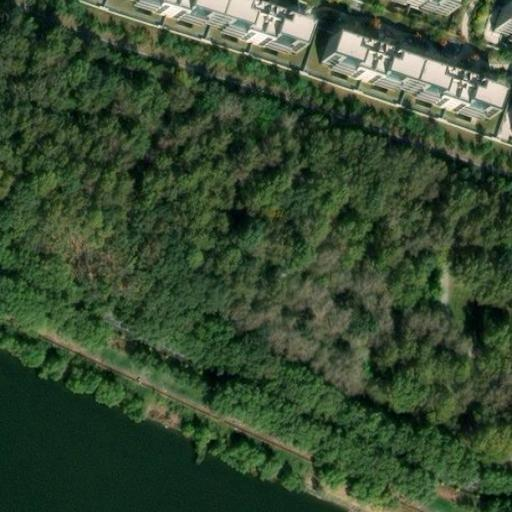building: (322, 40, 499, 121), (130, 0, 305, 53), (395, 0, 450, 14)
